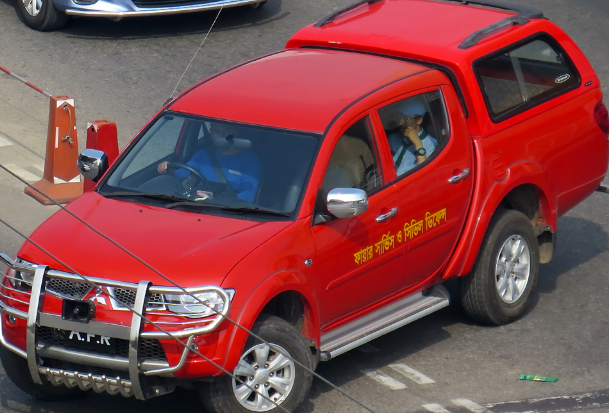Fire truck: (0, 5, 609, 413)
